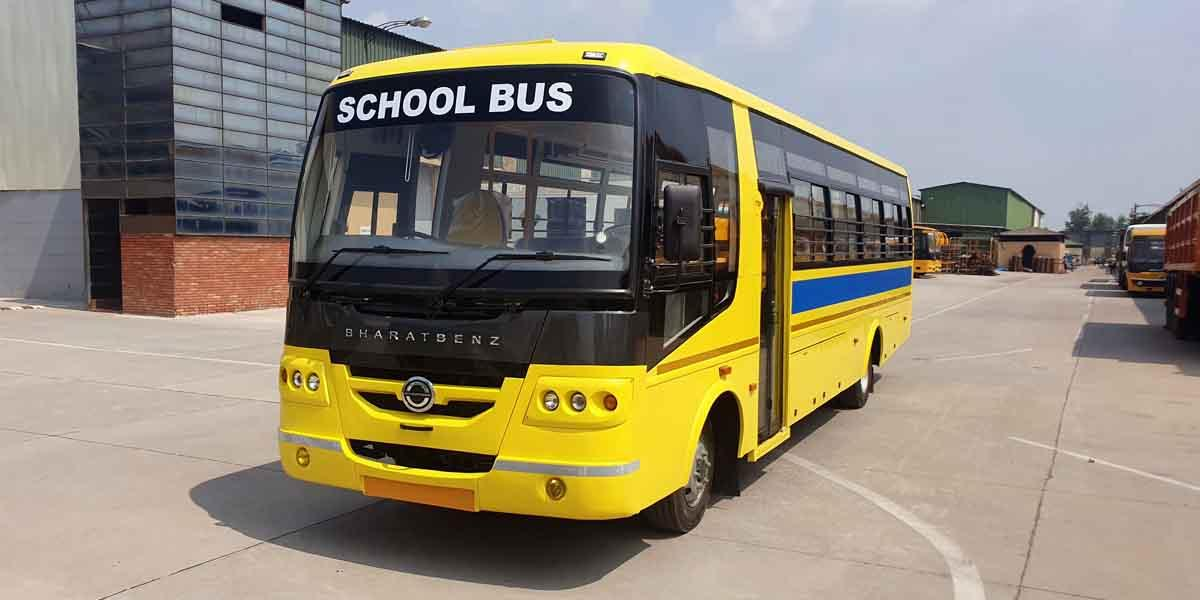bus: (276, 38, 917, 542), (1119, 220, 1176, 303), (910, 221, 948, 285)
